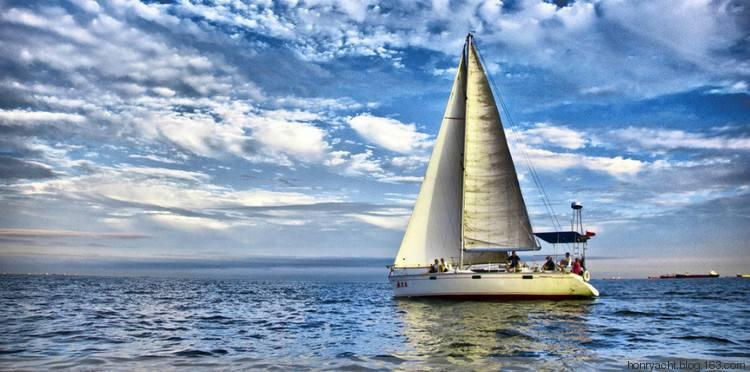fanchuan: (386, 33, 605, 304)
